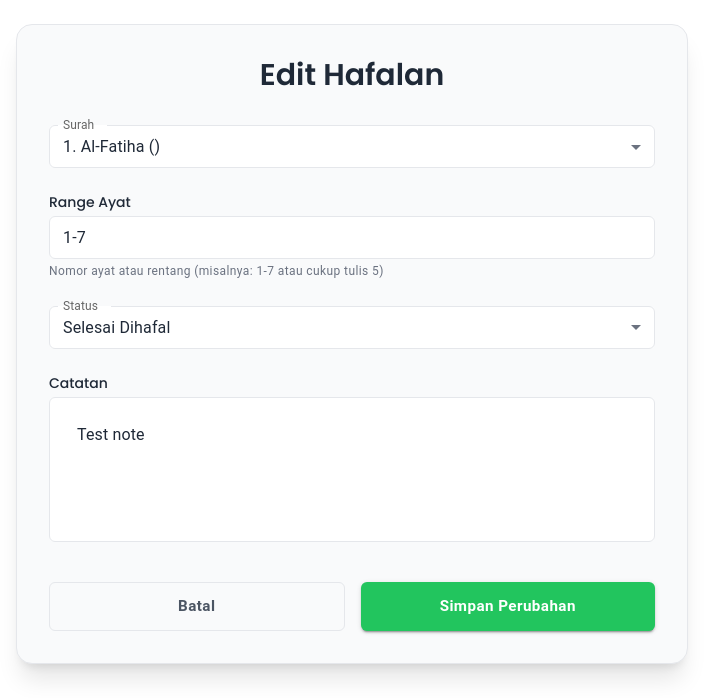
HafalanForm Component › submits updated hafalan data correctly
Expected: the dropdown named "Surah" shows "Al-Fatiha", [63,137,160,156]
Expected: the dropdown named "Status" reads "Selesai Dihafal", [63,318,170,337]
Note: Change some data
Replace the text in the field labelled "Range Ayat" with "1-10" at (352,238), box [49,216,655,259]
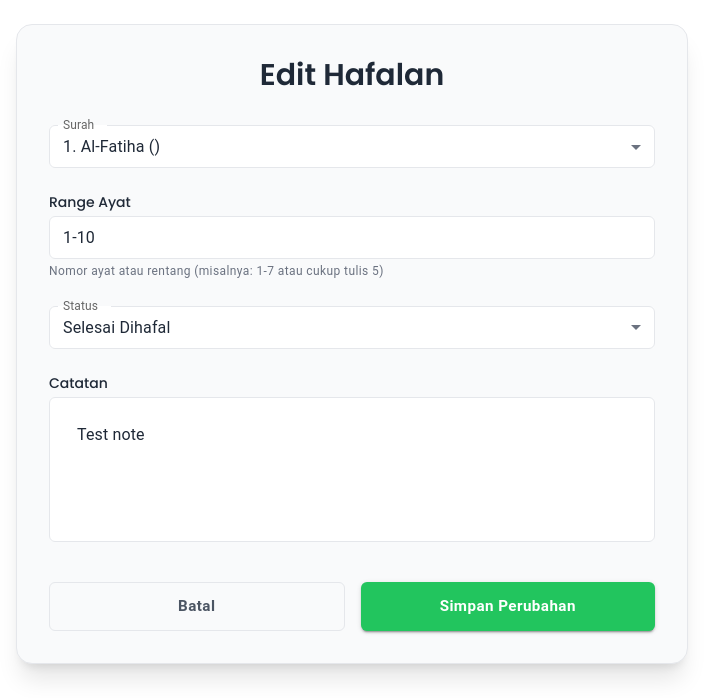
Replace the text in the text box labelled "Catatan" with "Updated note" at (352,469), box [63,413,641,525]
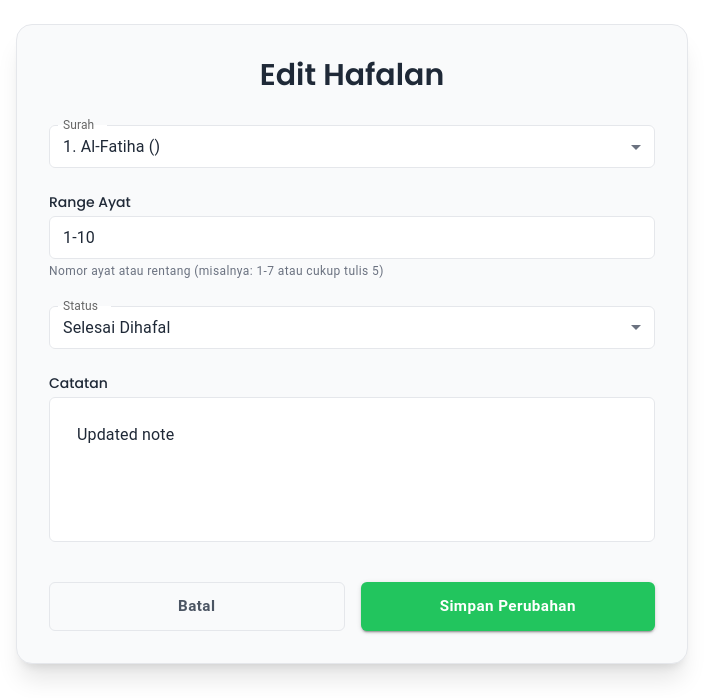
Click the button "Simpan Perubahan" at (508,606), box [360,582,655,630]
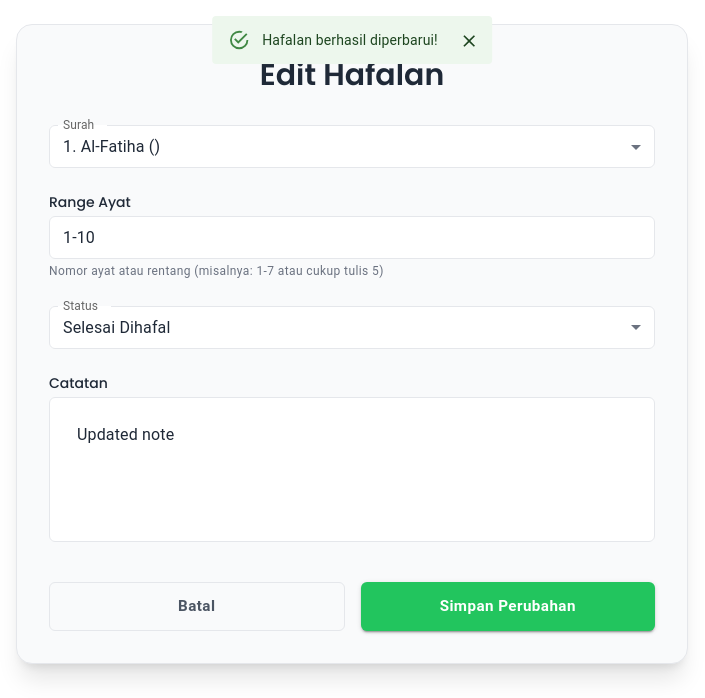
Now the text "Hafalan berhasil diperbarui!" is shown, box [262,32,438,48]
